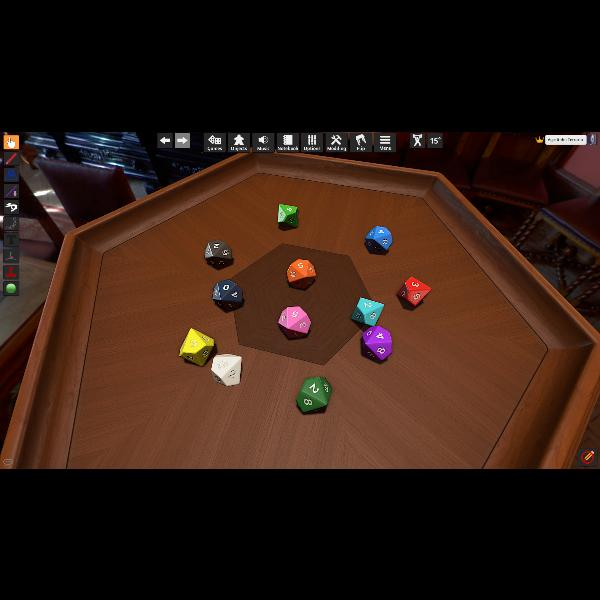d10: (180, 327, 216, 364), (297, 377, 331, 413), (360, 326, 392, 360), (278, 305, 310, 337), (210, 353, 241, 385), (351, 296, 383, 326), (212, 279, 242, 311), (399, 275, 430, 305), (286, 259, 316, 289), (204, 239, 232, 269), (364, 225, 392, 253), (278, 202, 300, 228)
